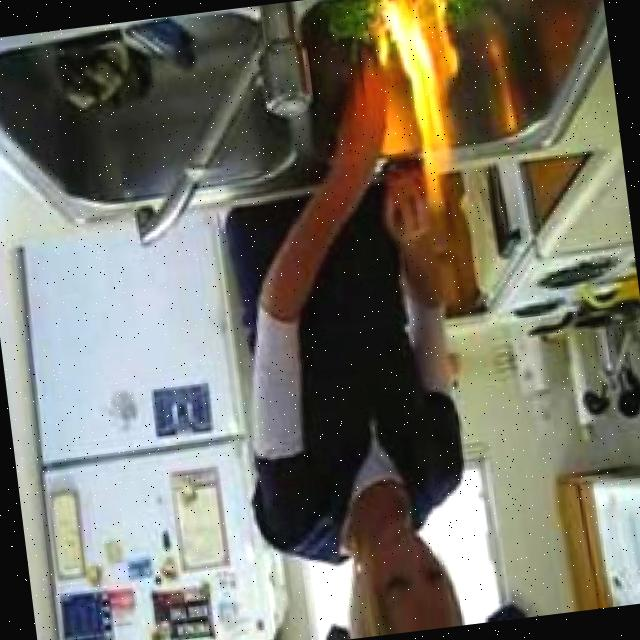fire: (362, 0, 494, 219)
